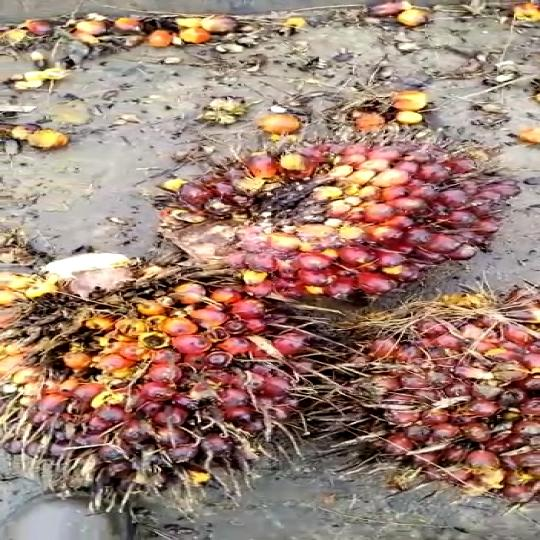masak: (0, 240, 341, 480), (145, 126, 523, 308), (306, 295, 540, 515)
